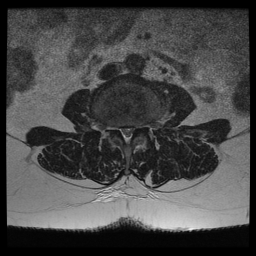CCS_normal: (124, 120, 130, 151)
LFS_severe_stenosis: (137, 116, 143, 138)
LLS_stenosis: (130, 118, 137, 138)
RFS_severe_stenosis: (111, 118, 117, 137)
RLS_severe_stenosis: (117, 119, 124, 140)
